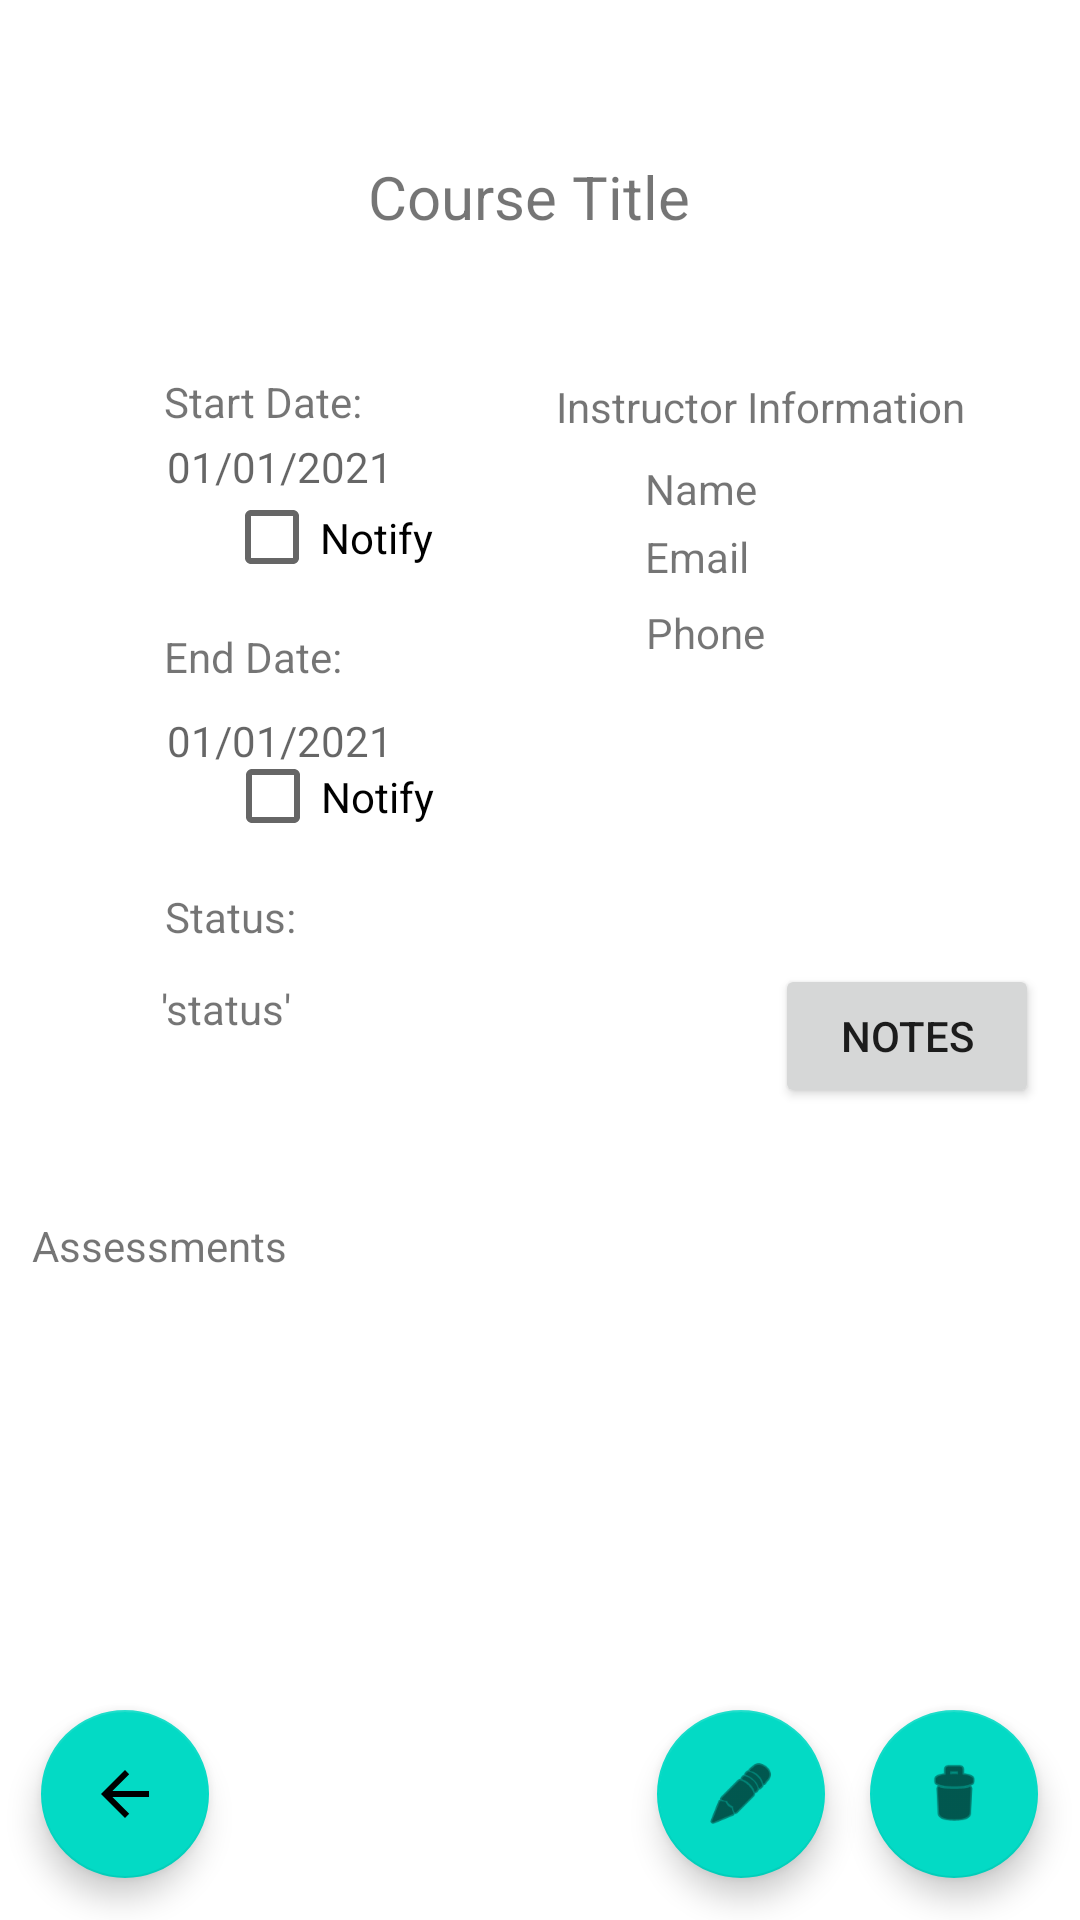

Icons on this 1080px x 1920px Android screen, each with its box as box=[x1, y1, x2, y2]:
delete: box=[870, 1710, 1038, 1878]
edit: box=[657, 1710, 825, 1878]
